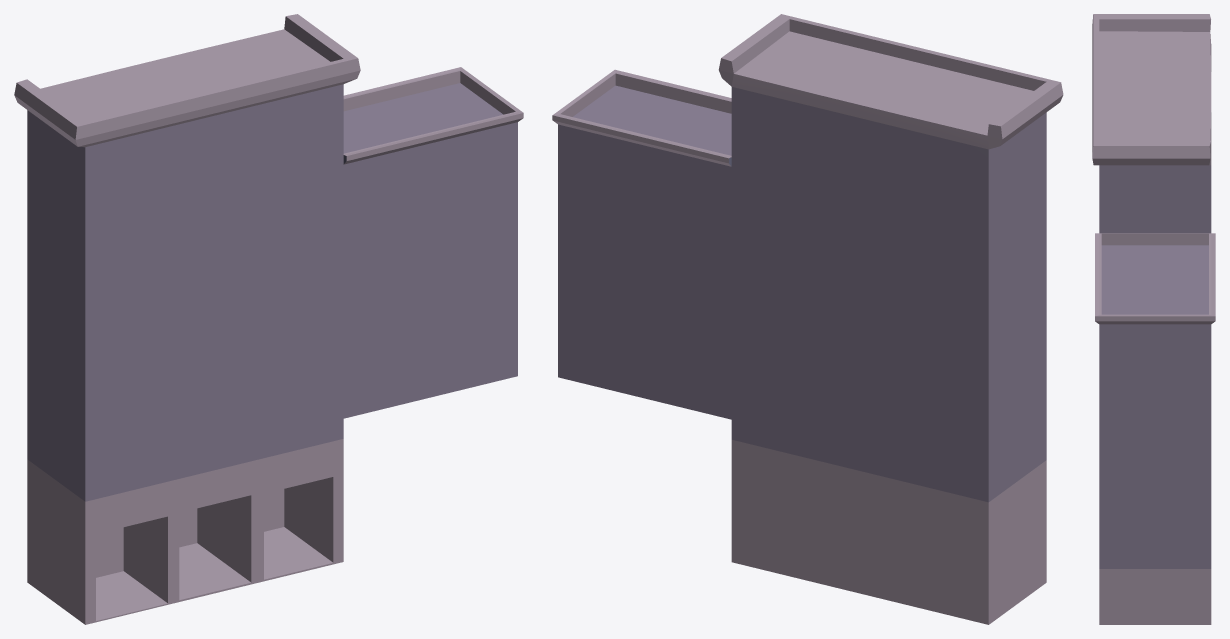
File: building_F_4floors.fbx
The picture shows the model from 3 angles, left to right: view 1: azimuth 30°, elevation 25°; view 2: azimuth 150°, elevation 25°; view 3: azimuth 270°, elevation 25°; orthographic projection. The views are drawn at different scales.
Visible parts, largest first — view 1: building_F_4floors; view 2: building_F_4floors; view 3: building_F_4floors.
Boxes of the visible parts, left/top/right/bottom form: building_F_4floors: left=14, top=14, right=523, bottom=624; building_F_4floors: left=552, top=14, right=1063, bottom=624; building_F_4floors: left=1092, top=14, right=1215, bottom=624.
Bounding box in the file's own units: 14.02 × 15 × 3.46.
